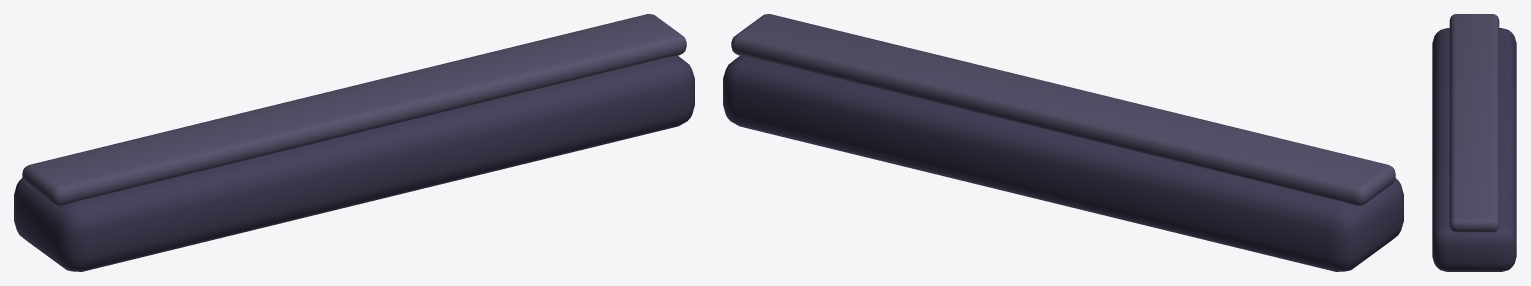
File: roof_ridge.glb
The picture shows the model from 3 angles, left to right: view 1: azimuth 30°, elevation 25°; view 2: azimuth 150°, elevation 25°; view 3: azimuth 270°, elevation 25°; orthographic projection. The views are drawn at different scales.
Parts seen in each view (by area): view 1: roof_ridge; view 2: roof_ridge; view 3: roof_ridge.
Boxes of the visible parts, x1,y1,x2,y2 form: roof_ridge: (14,14,694,271); roof_ridge: (723,14,1403,271); roof_ridge: (1432,14,1516,271).
Size of the model in its own units: 2 by 0.25 by 0.34.
